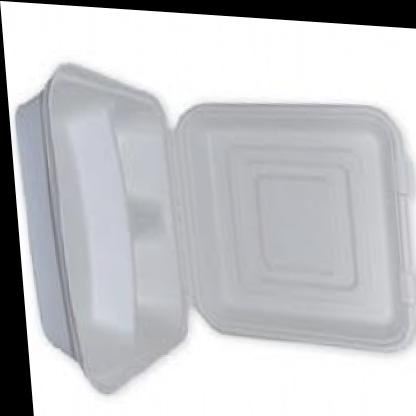trash: (16, 64, 413, 392), (16, 64, 186, 392)
